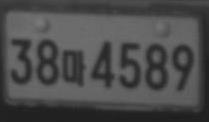3: (9, 38, 32, 84)
4: (89, 41, 115, 89)
5: (118, 42, 142, 89)
8: (144, 43, 169, 90), (35, 38, 59, 85)
9: (171, 44, 194, 90)
마: (62, 49, 87, 86)
